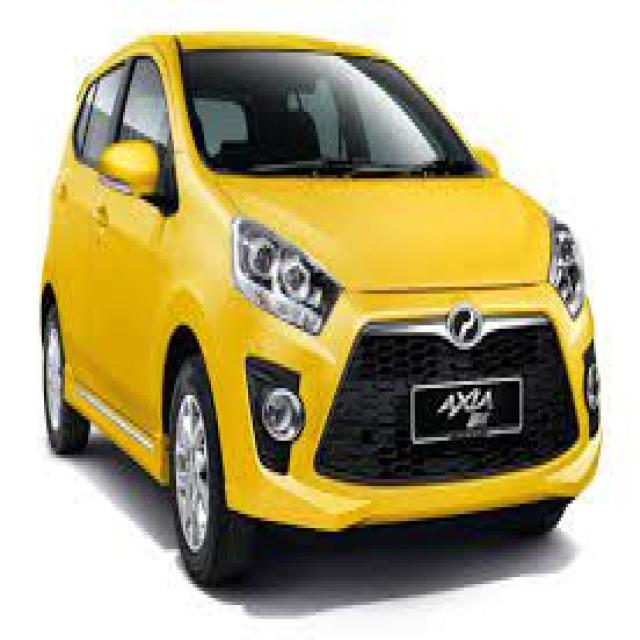PeroduaAxia: (37, 25, 603, 588)
